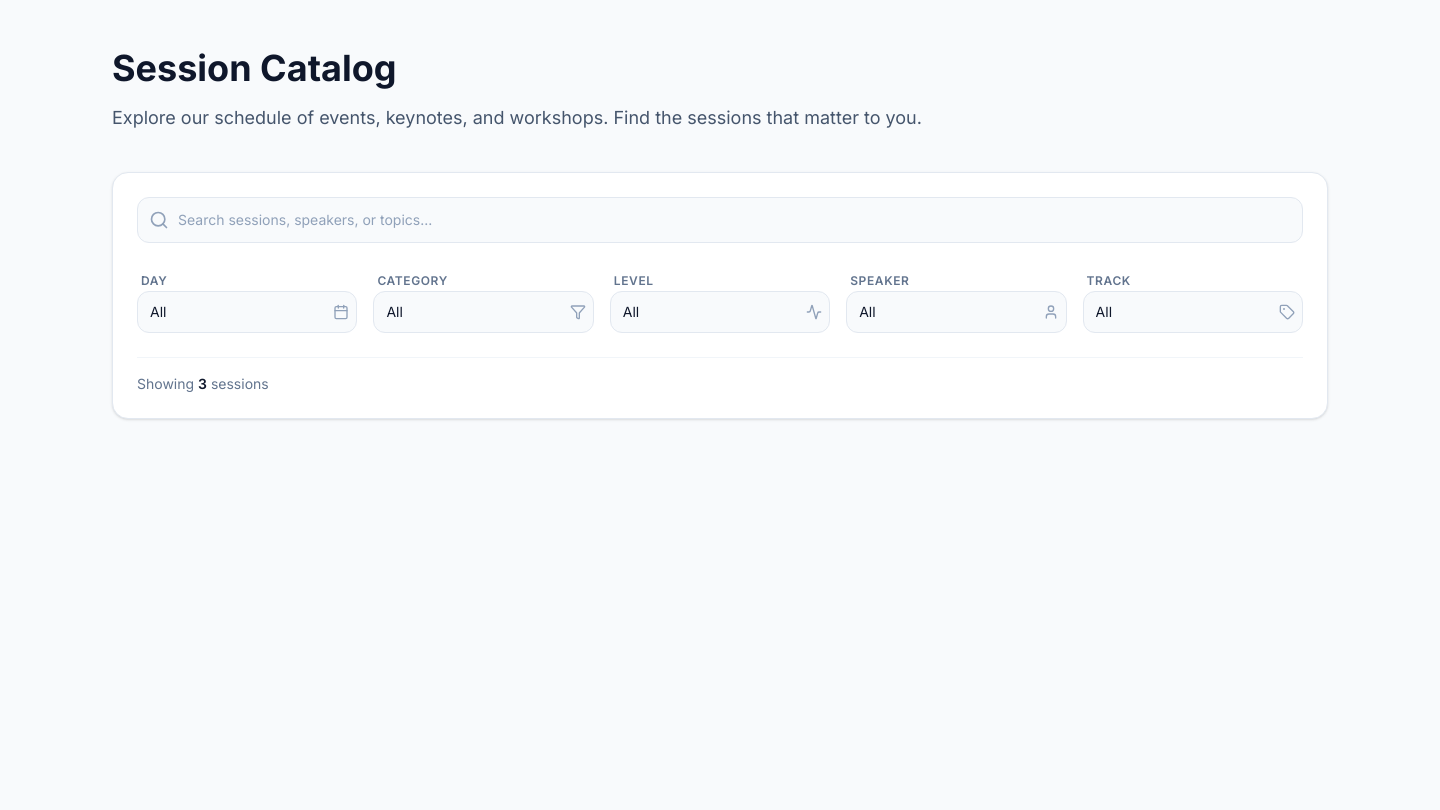
Test: Catalog Page › filters by Day
This screenshot has width=1440, height=810.
Select "Day 2" in the dropdown labelled "Day" at (247, 312), box left=137, top=291, right=357, bottom=333
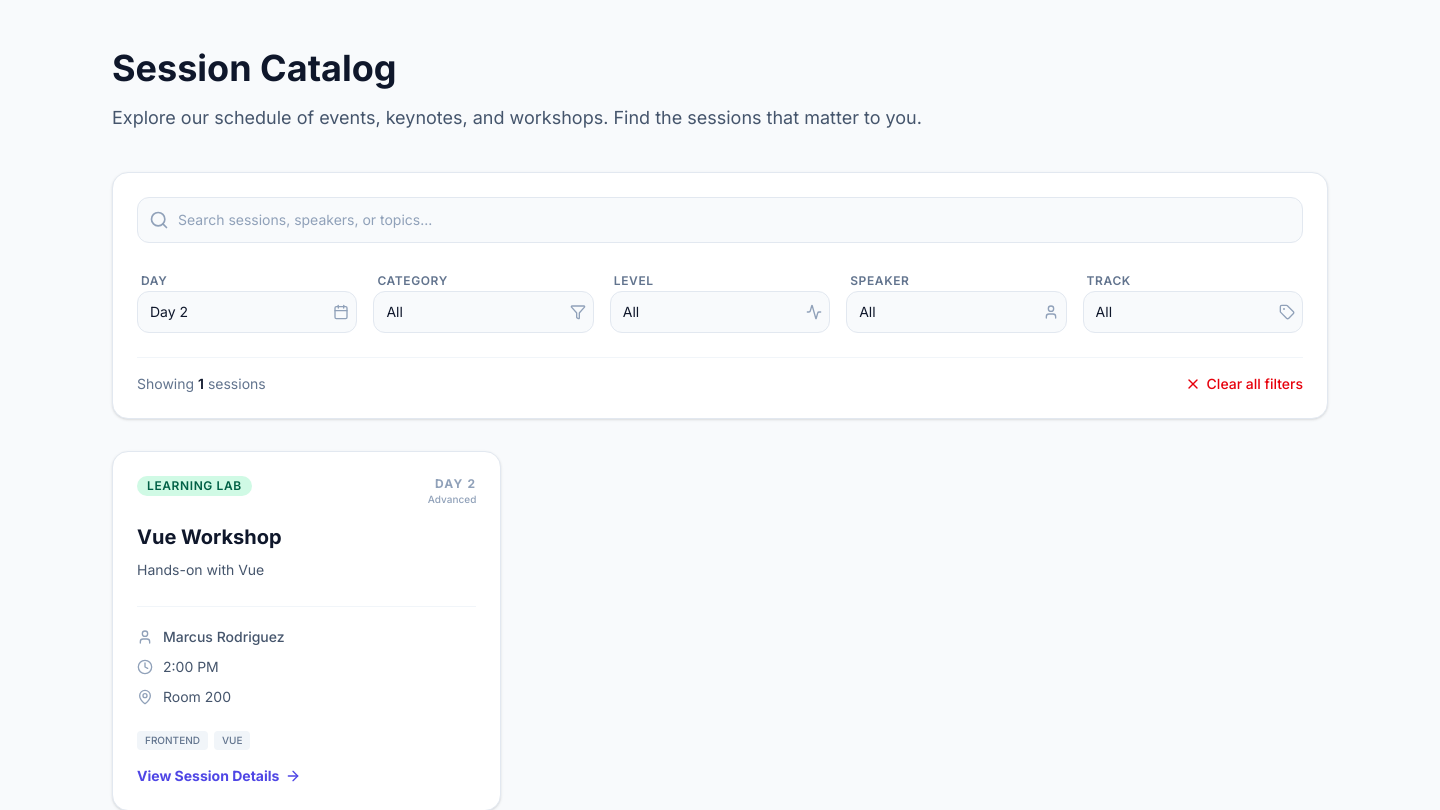
Check: the heading "Vue Workshop" is shown, box left=137, top=525, right=282, bottom=549
